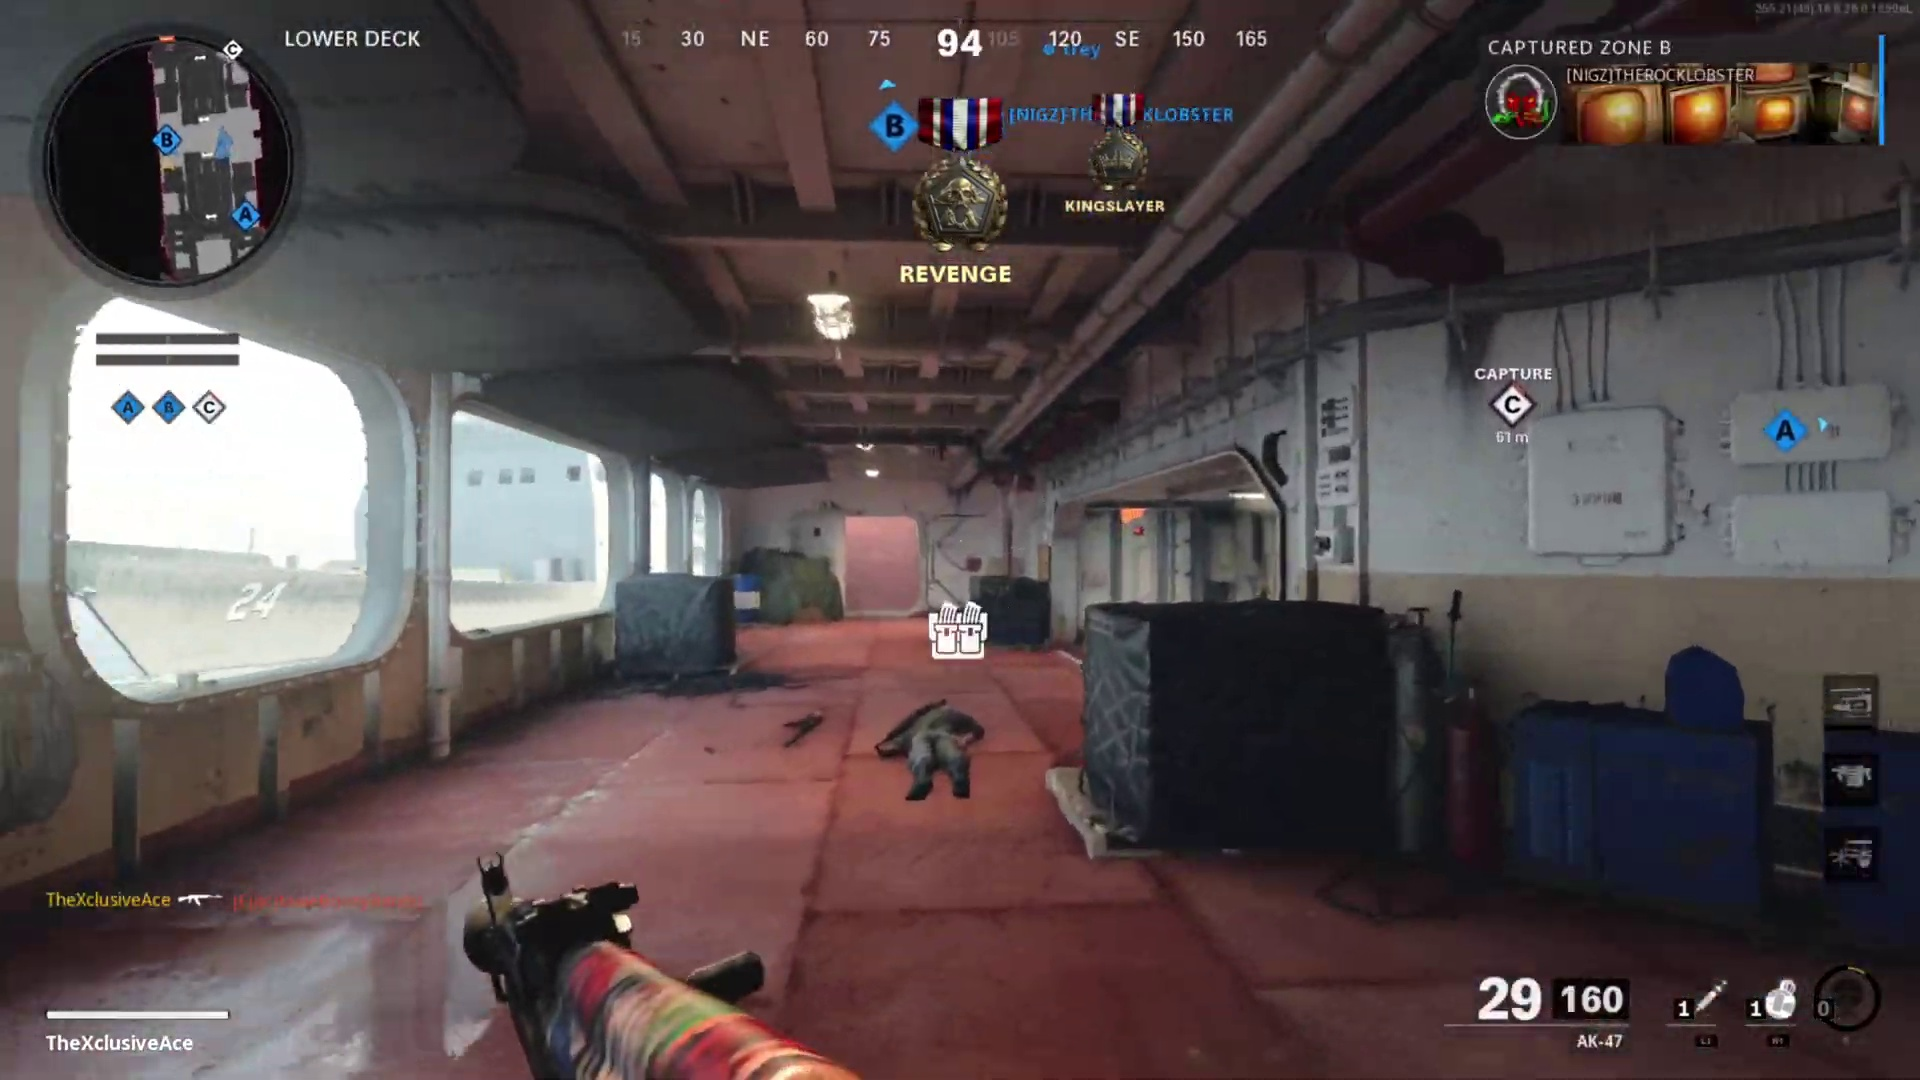person: (877, 698, 981, 801)
